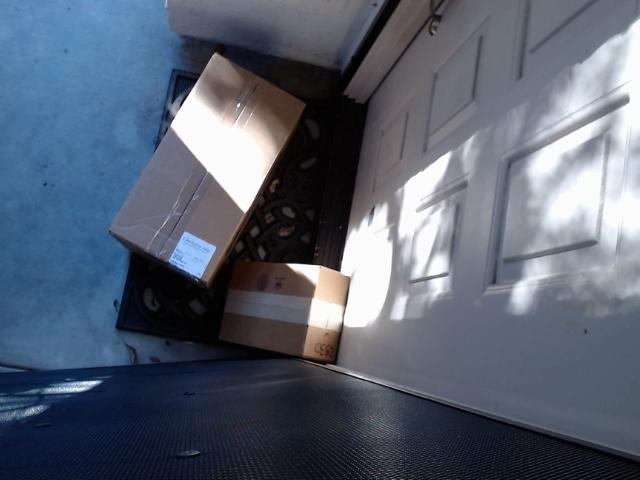box: (108, 52, 306, 290), (219, 261, 351, 363)
